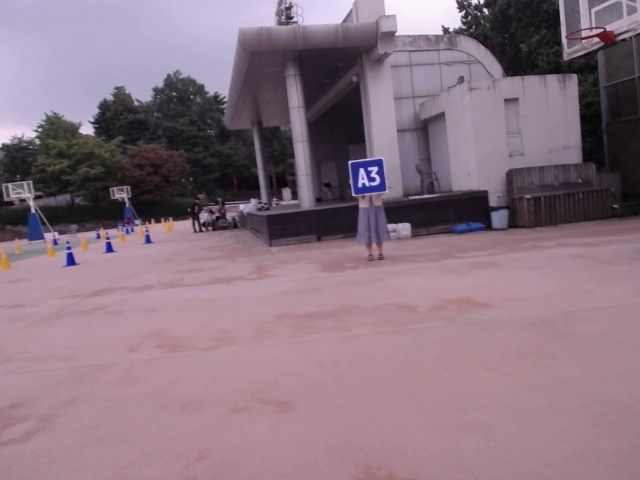delivery_a3: (350, 157, 388, 195)
